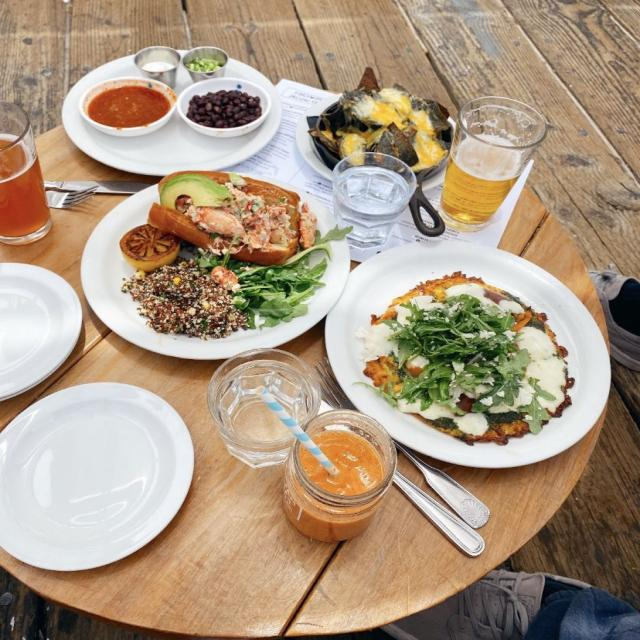do chien: (352, 281, 573, 431), (316, 87, 446, 153)
rau thap cam: (127, 184, 317, 328)
tuong ot: (91, 82, 160, 133)
